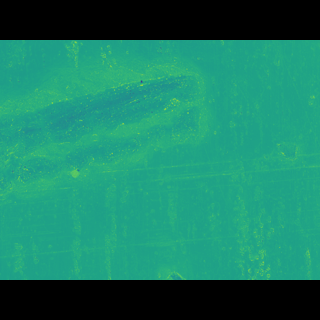Loch: (0, 82, 217, 194)
